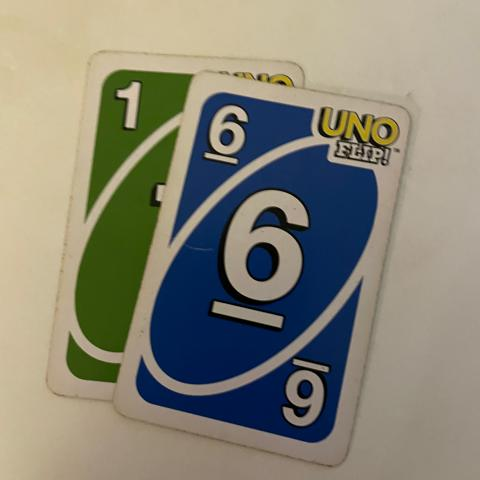lblue-6: (197, 83, 257, 179)
lgreen-1: (97, 61, 155, 147)
